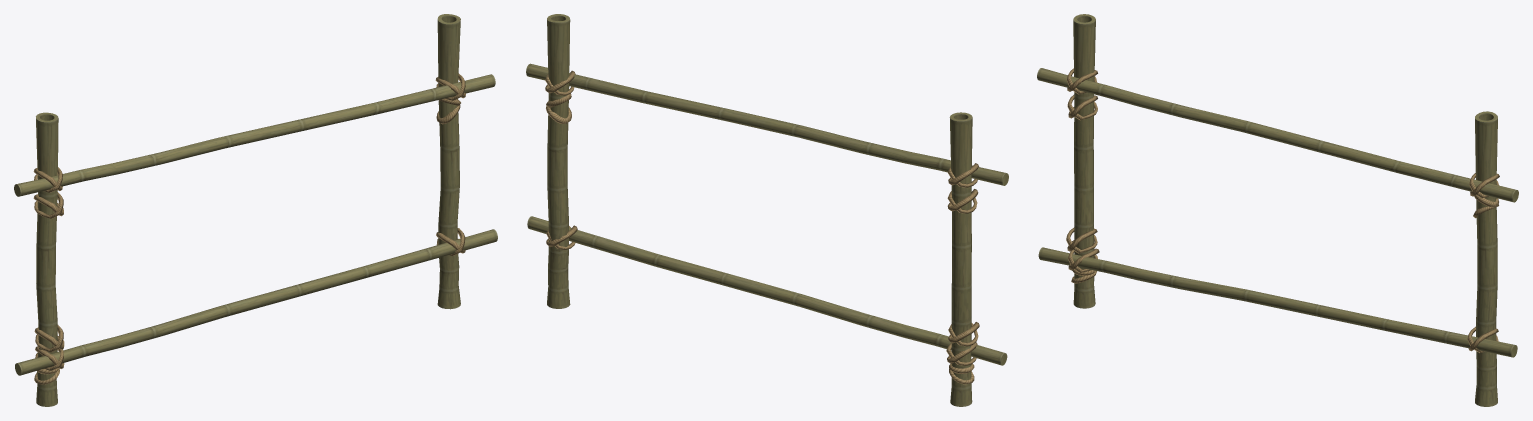
Rendered from SM_EastLands_BambooFence_B_01.fbx.
The picture shows the model from 3 angles, left to right: view 1: azimuth 30°, elevation 25°; view 2: azimuth 150°, elevation 25°; view 3: azimuth 330°, elevation 25°; orthographic projection.
Visible parts, largest first — view 1: SM_EastLands_BambooFence_B_01_LOD0; view 2: SM_EastLands_BambooFence_B_01_LOD0; view 3: SM_EastLands_BambooFence_B_01_LOD0.
Part boxes in pixels (<box>): SM_EastLands_BambooFence_B_01_LOD0: <box>14,14,497,406</box>; SM_EastLands_BambooFence_B_01_LOD0: <box>526,14,1008,406</box>; SM_EastLands_BambooFence_B_01_LOD0: <box>1037,14,1518,406</box>.
Bounding box in the file's own units: 236 × 135 × 17.63.
